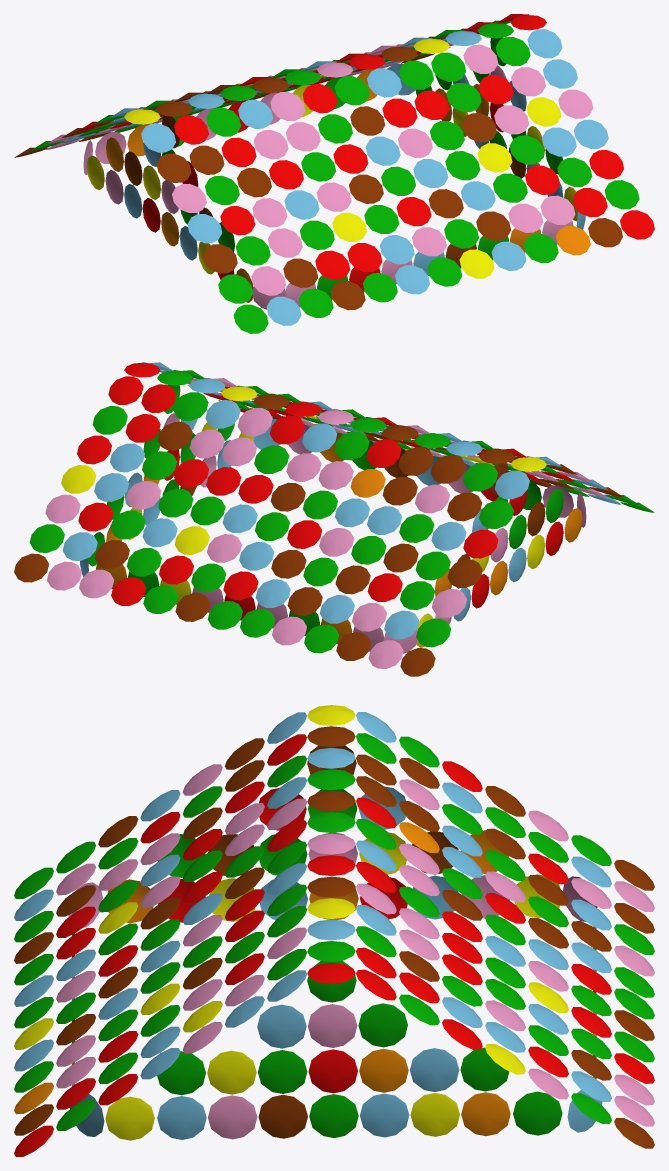
Rendered from roof_marble.FBX.
The picture shows the model from 3 angles, top to bottom: view 1: azimuth 30°, elevation 25°; view 2: azimuth 150°, elevation 25°; view 3: azimuth 270°, elevation 25°; orthographic projection. The views are drawn at different scales.
Parts seen in each view (by area): view 1: オブジェクト528; view 2: オブジェクト528; view 3: オブジェクト528.
Part boxes in pixels (x1,y1,x2,y2): オブジェクト528: (14,14,654,333); オブジェクト528: (14,362,654,676); オブジェクト528: (14,705,654,1156).
Bounding box in the file's own units: 102 × 33.17 × 98.68.
